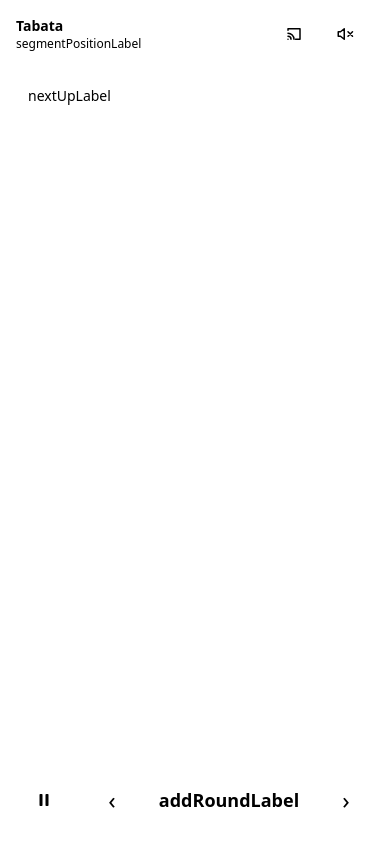
ExecutionMode › asks for the score at the end of the section
What coordinates should you click on to do the following:
click the button named "nextbc98198"
I would click on:
 (346, 800)
Its box is [318,772,374,828].
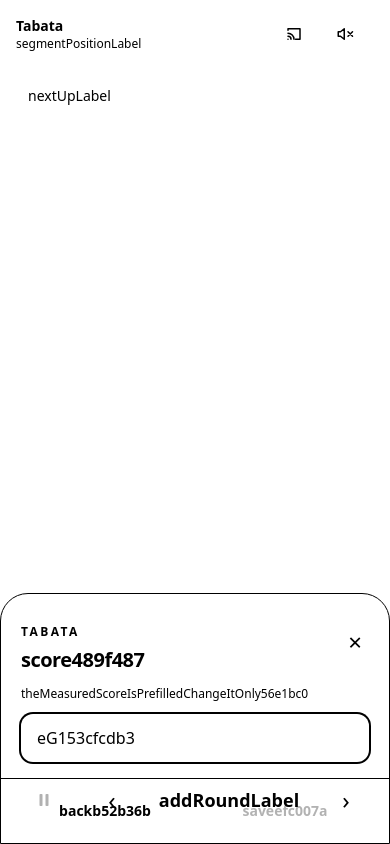
Now the text "theMeasuredScoreIsPrefilledChangeItOnly56e1bc0" is shown, box [21,686,308,702]
